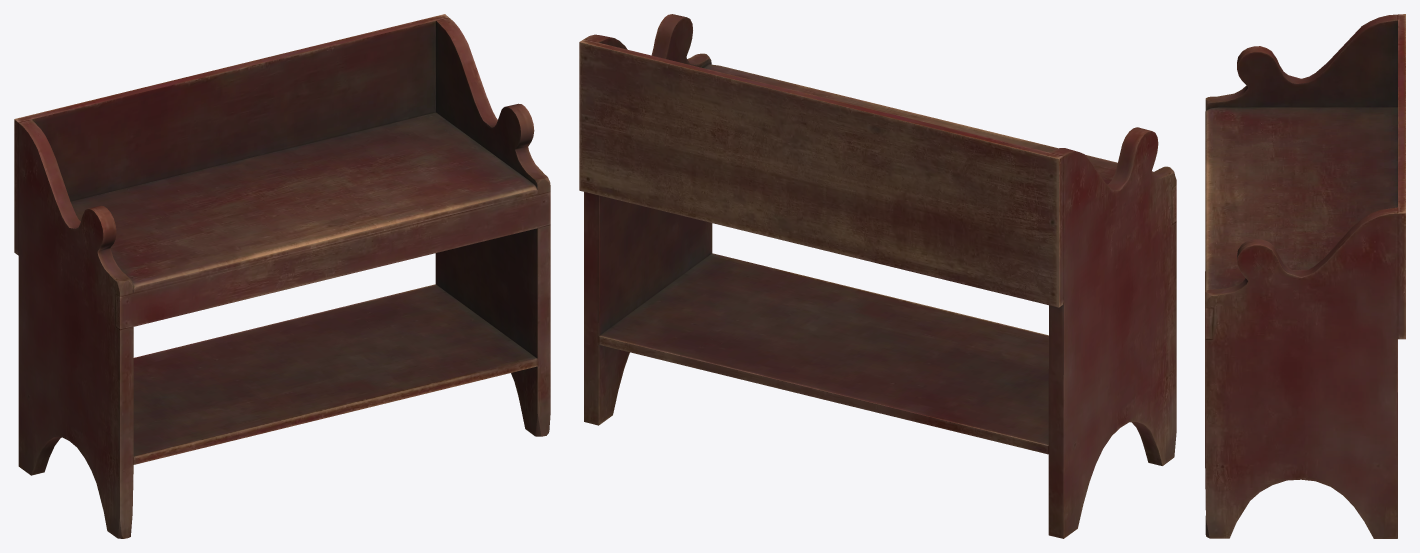
File: painted_wooden_bench.lite.glb
3 renders of one model, left to right at view 1: azimuth 30°, elevation 25°; view 2: azimuth 150°, elevation 25°; view 3: azimuth 270°, elevation 25°, orthographic. The views are drawn at different scales.
Visible parts, largest first — view 1: painted_wooden_bench; view 2: painted_wooden_bench; view 3: painted_wooden_bench.
Boxes of the visible parts, x1,y1,x2,y2 form: painted_wooden_bench: (14,14,550,538); painted_wooden_bench: (579,14,1176,538); painted_wooden_bench: (1205,14,1405,538).
Bounding box in the file's own units: 1.16 × 0.8893 × 0.4965.
Materials: 1 (1 with a texture image).
